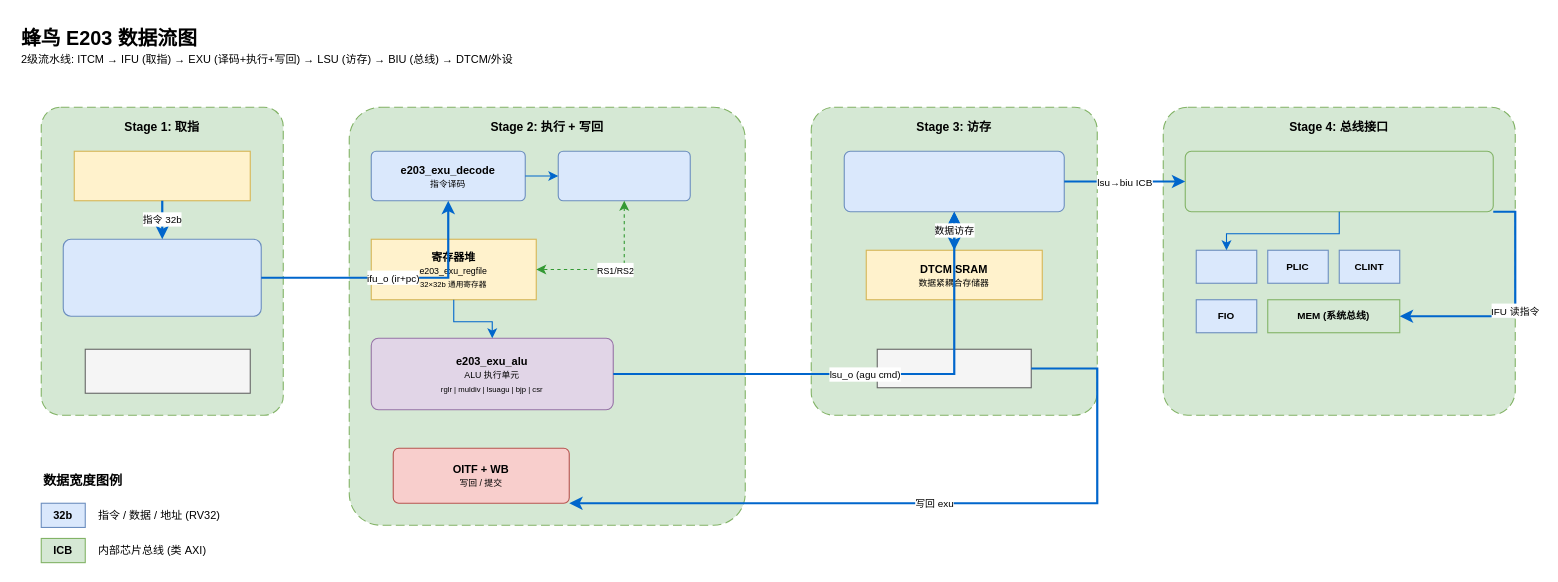
The diagram is 1558 pixels wide and 582 high, and some of its shapes have lost their labels. Each missing label, with the centre of its shape:
"e203_biu 总线接口单元 (ICB 矩阵)" belongs at point (1338, 181).
"e203_exu_disp 指令分发" belongs at point (623, 175).
"e203_ifu 取指单元 IFETCH + Mini-Decode + 轻量分支预测 (BPU)" belongs at point (161, 277).
"e203_lsu 访存单元 AGU → ITCM/DTCM/BIU" belongs at point (953, 181).
"IFU 输出 ir[31:0], pc[31:0] rs1idx, rs2idx, prdt_taken" belongs at point (167, 370).
"ITCM SRAM 指令紧耦合存储器" belongs at point (161, 175).
"PPI" belongs at point (1226, 266).
"写回数据 wbck_wdat[31:0]" belongs at point (953, 368).
